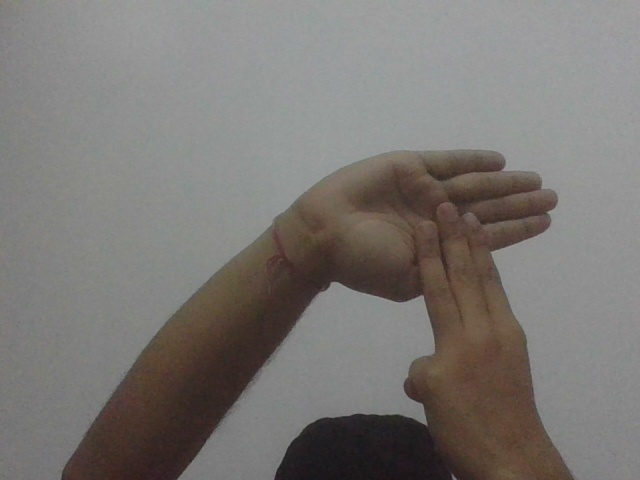M: (323, 145, 563, 363)
